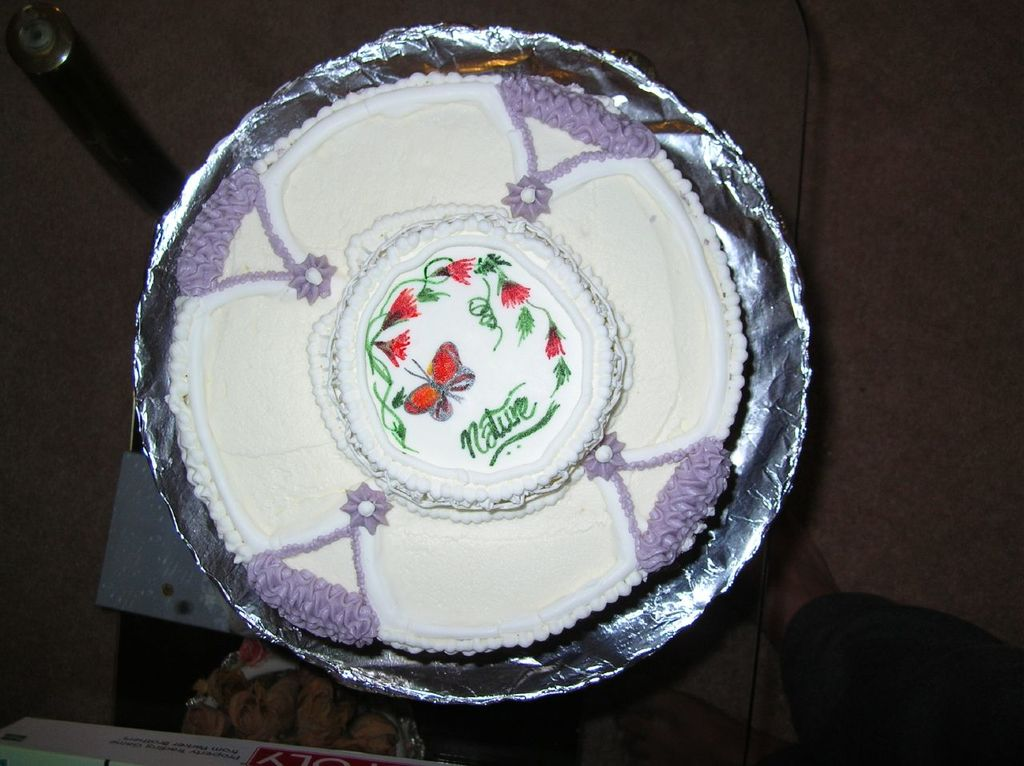plate: (131, 24, 812, 708)
